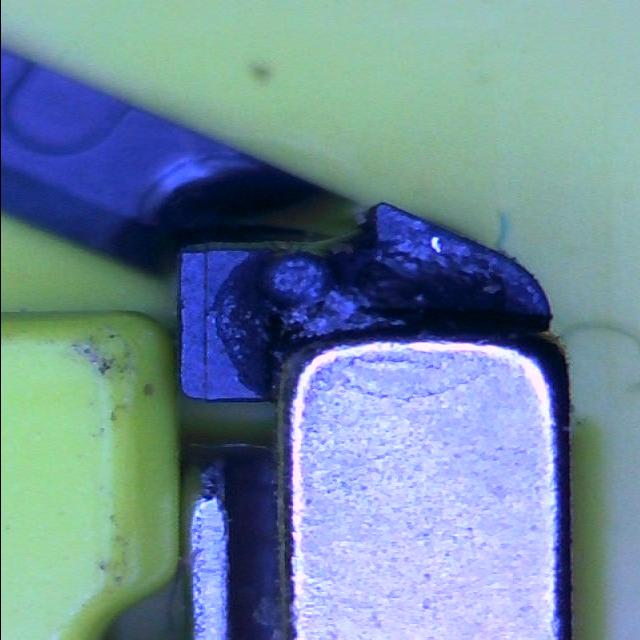over: (228, 242, 524, 340)
